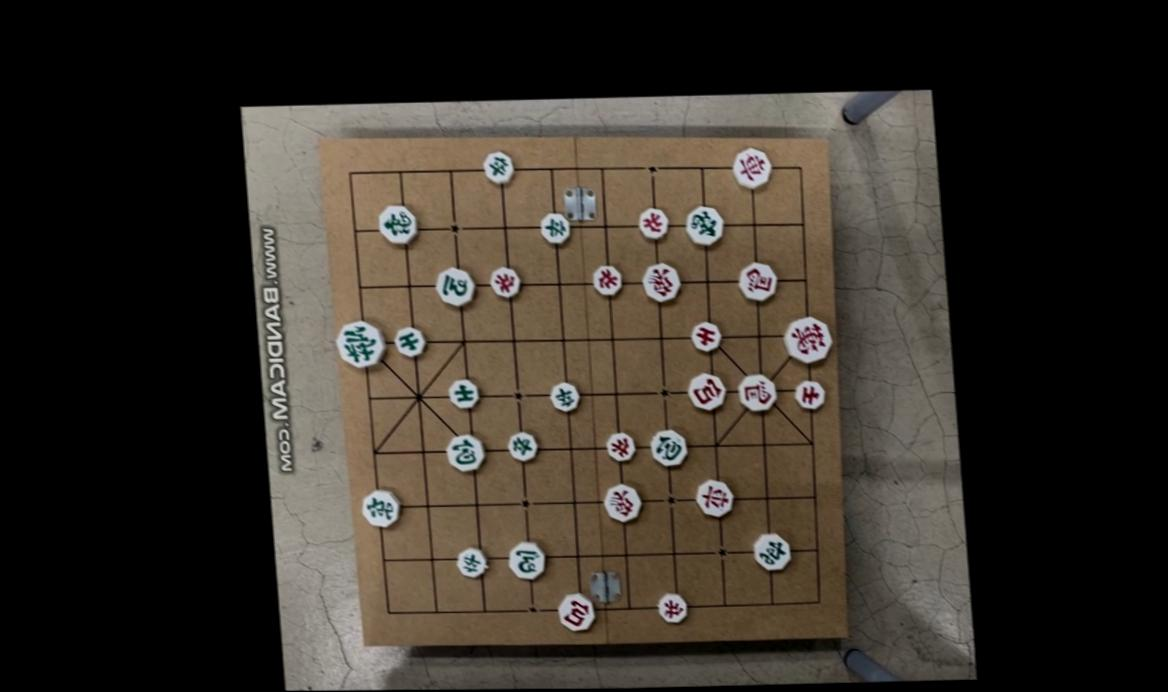cha_green: (752, 530, 789, 570), (362, 489, 399, 526)
cha_red: (732, 144, 770, 187), (695, 478, 733, 518)
jol_green: (456, 545, 490, 578), (485, 149, 516, 183), (541, 210, 571, 244), (507, 429, 537, 460), (551, 382, 581, 413)
jol_red: (489, 263, 520, 296), (638, 205, 668, 239), (658, 590, 687, 623), (592, 264, 622, 295), (606, 430, 635, 462)
ma_green: (436, 265, 475, 305), (510, 539, 546, 579)
ma_red: (736, 260, 779, 301), (739, 372, 777, 412)
po_green: (651, 426, 689, 466), (448, 432, 486, 472)
po_red: (557, 590, 594, 633), (689, 371, 728, 411)
sa_green: (395, 322, 427, 357), (448, 377, 479, 407)
sa_red: (689, 319, 723, 350), (795, 377, 825, 408)
sang_green: (683, 203, 725, 247), (378, 202, 416, 244)
sang_red: (641, 260, 679, 302), (603, 483, 641, 523)
wang_green: (339, 318, 387, 367)
wang_red: (783, 315, 830, 363)
